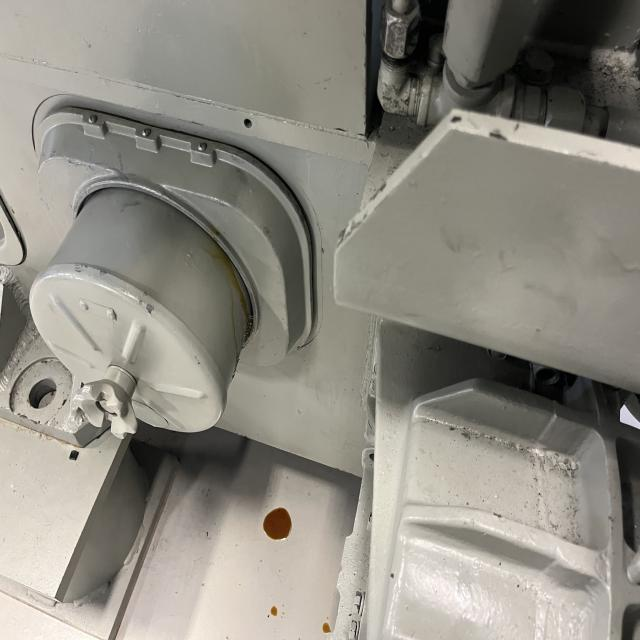Oil Leak: (199, 234, 259, 324), (259, 505, 295, 543), (269, 605, 279, 617), (321, 622, 331, 634)
